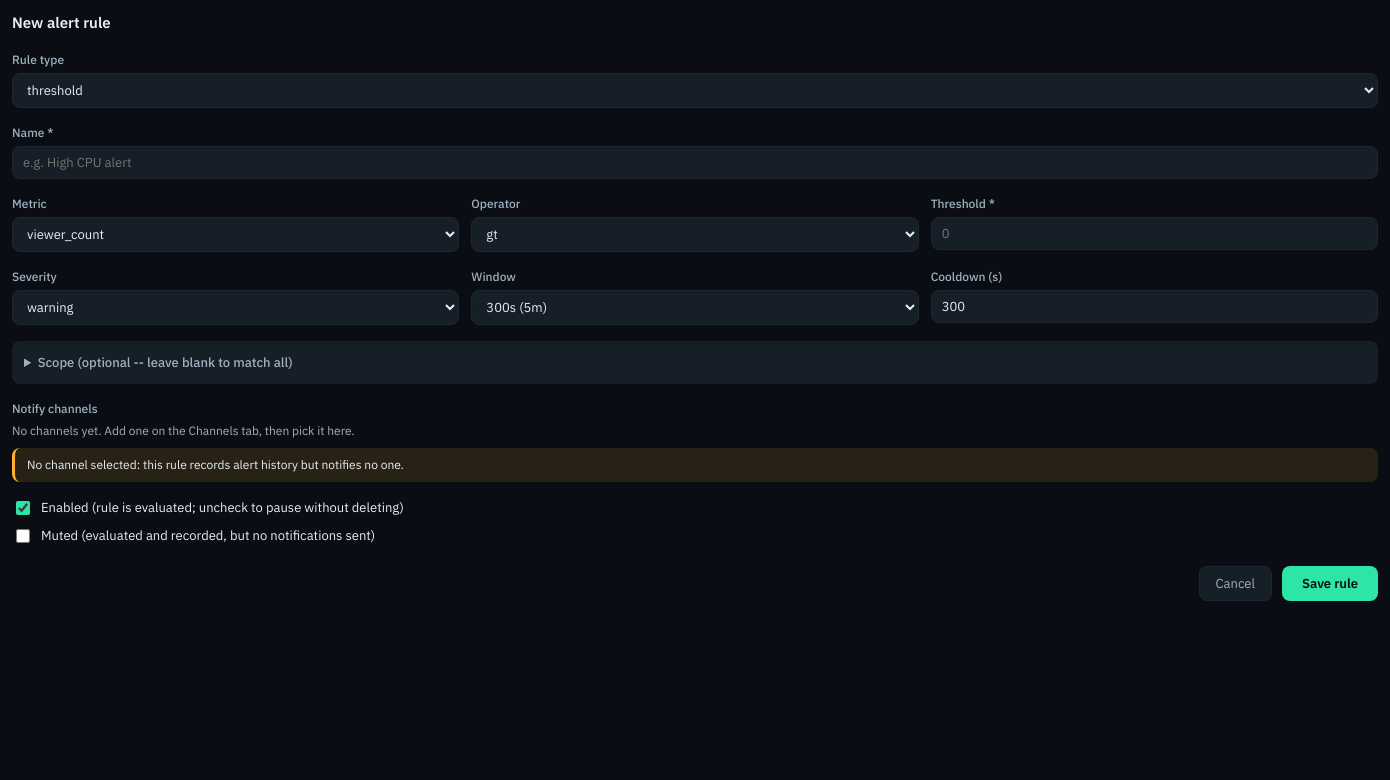
Test: AlertRuleForm — a11y: aria-invalid + aria-describedby on error › name input loses aria-invalid once a valid name is entered and form re-validates
This screenshot has width=1390, height=780.
Note: Trigger name error
Click the button "Save rule".
click(1330, 584)  # box [1282, 566, 1378, 601]
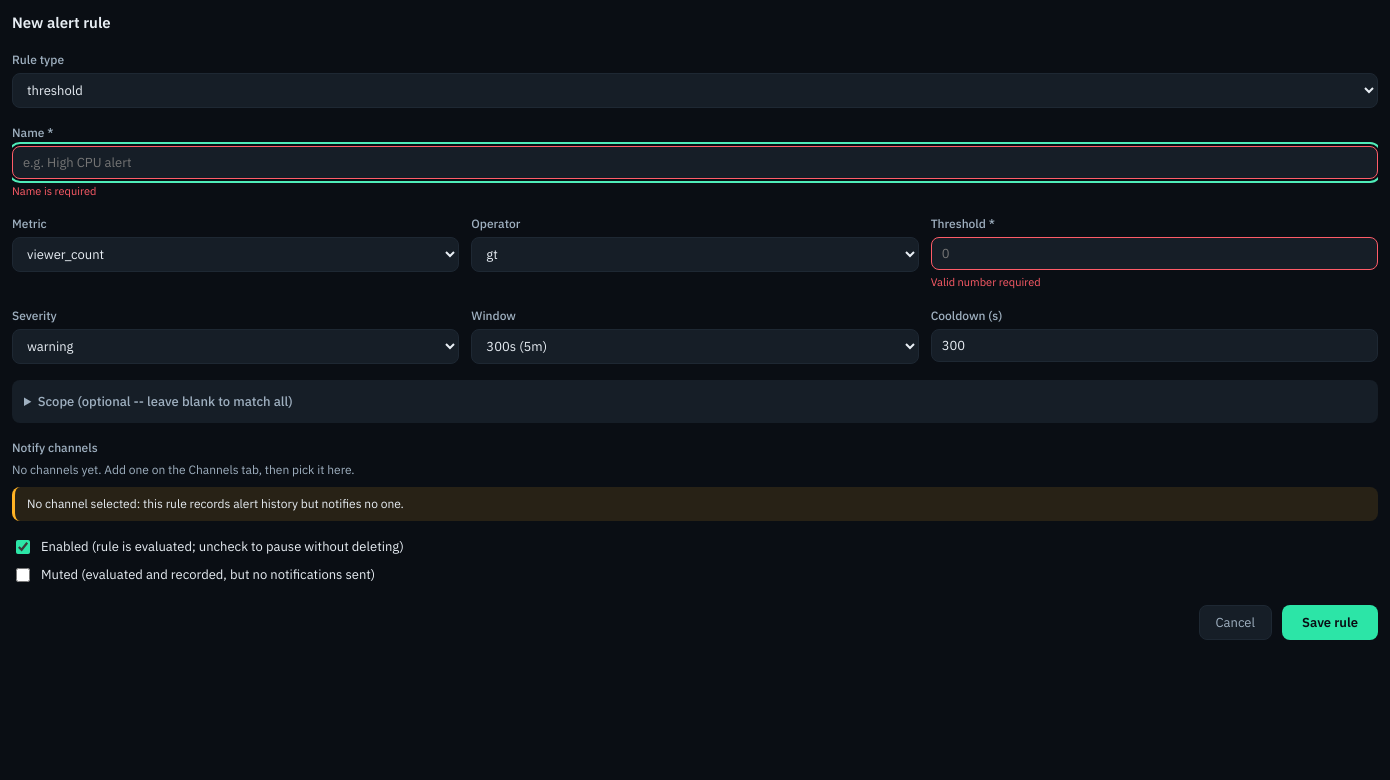
Check: the text "Name is required" is shown, box [12, 184, 96, 198]
Note: Fix name and submit again with a valid threshold
Type "Fixed name" into the field labelled "Name *".
click(695, 162); type("Fixed name")  # box [12, 146, 1378, 178]
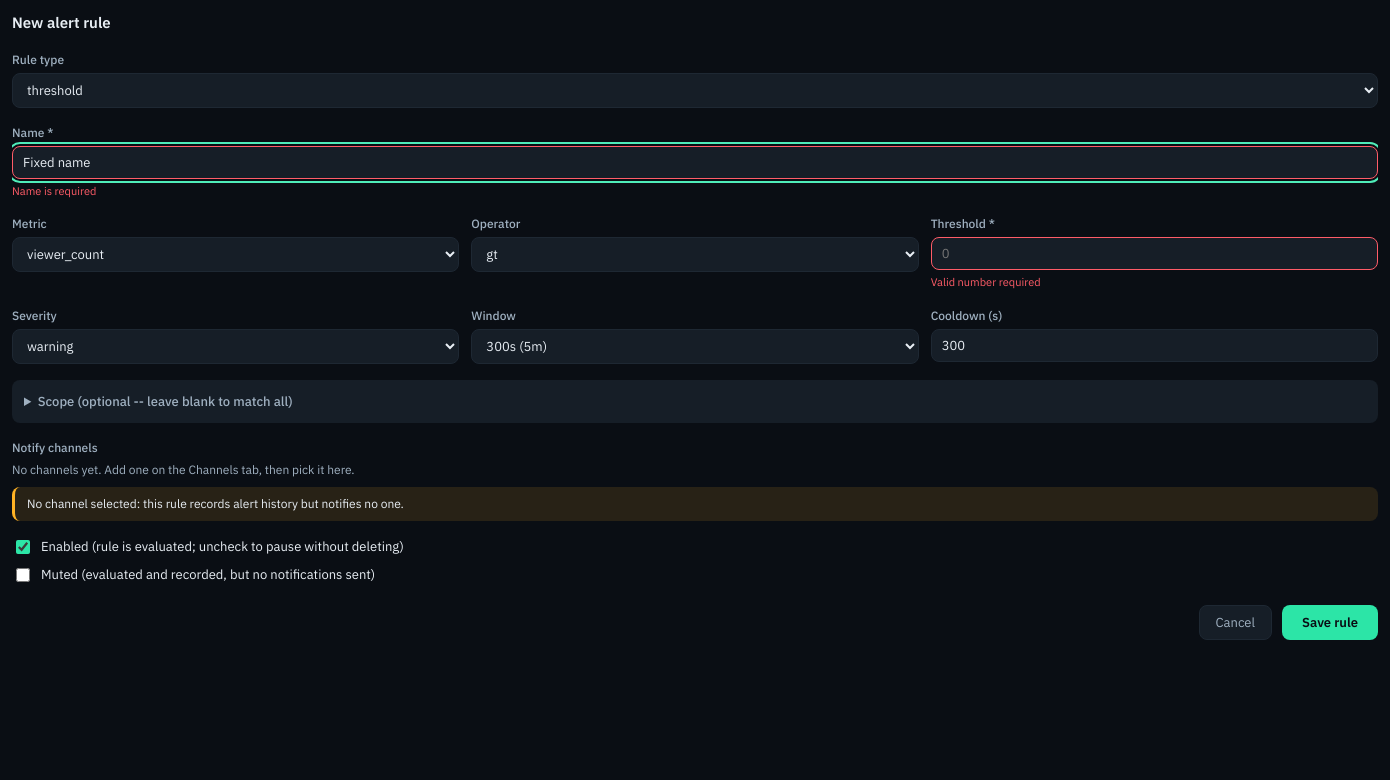
Type "90" into the number field with placeholder "0".
click(1154, 254); type("90")  # box [931, 237, 1378, 270]
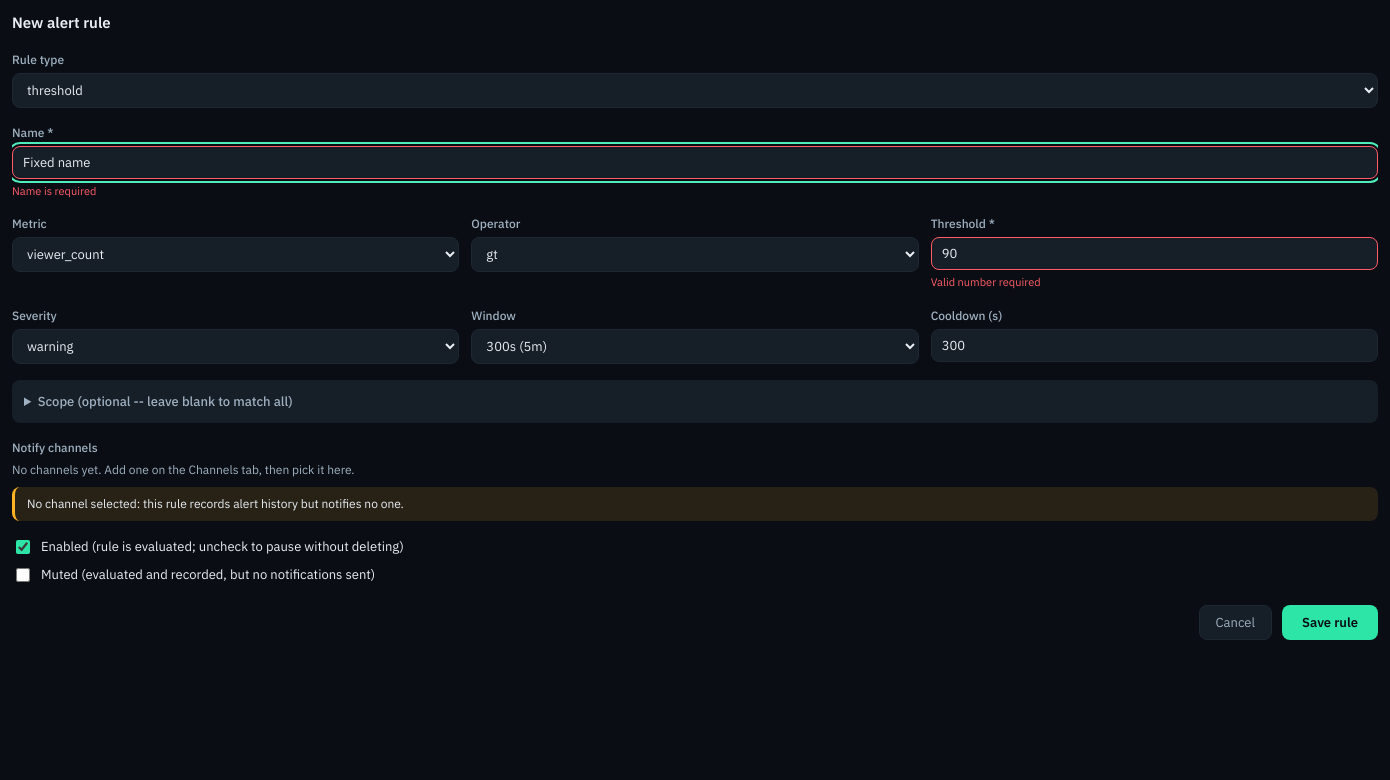
Click the button "Save rule".
click(1330, 622)  # box [1282, 605, 1378, 640]
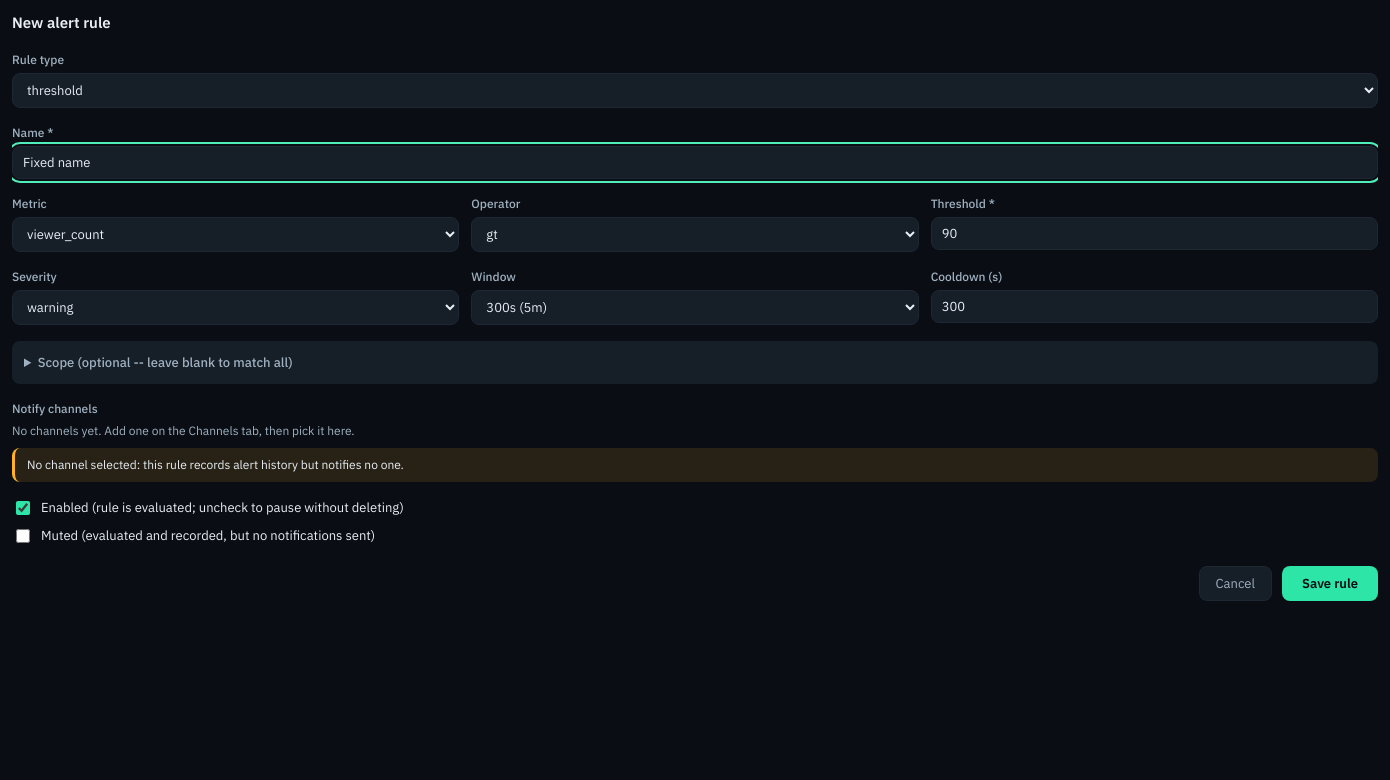
Check: the text "Name is required" is gone
